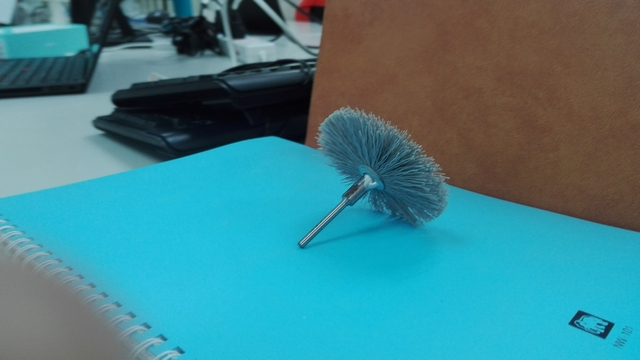TOOL: (263, 95, 468, 268)
